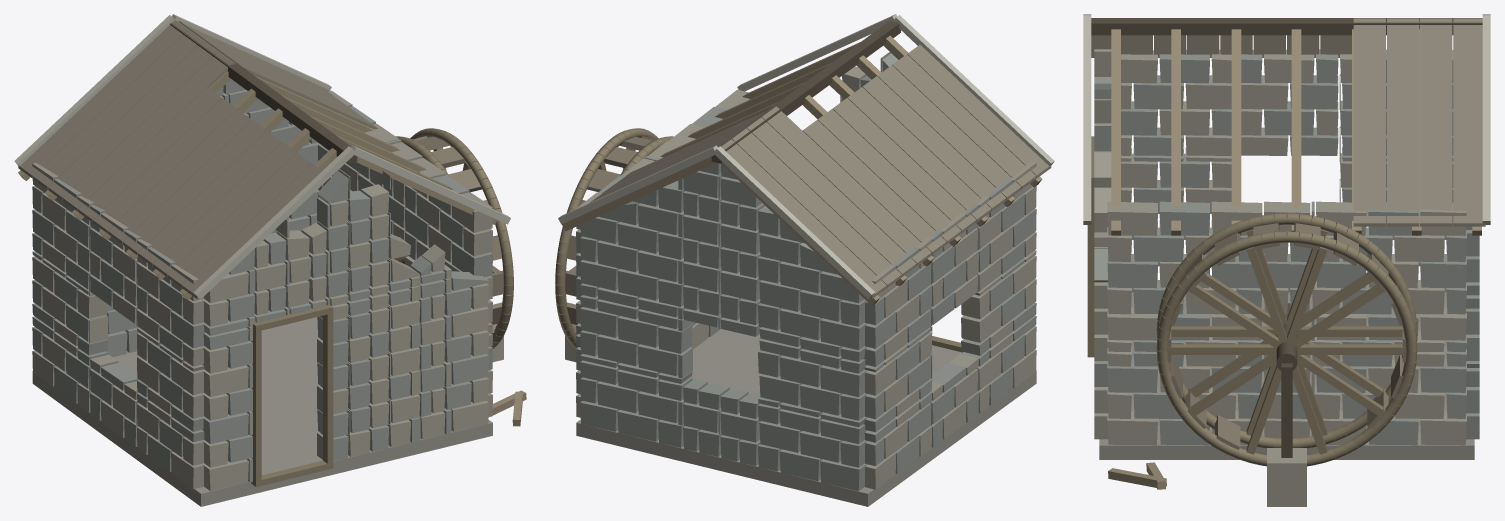
File: 079_stone_watermill_ruin.glb
3 renders of one model, left to right at view 1: azimuth 30°, elevation 25°; view 2: azimuth 150°, elevation 25°; view 3: azimuth 270°, elevation 25°, orthographic. The views are drawn at different scales.
Visible parts, largest first — view 1: BLD-079_exterior_Mill_front, BLD-079_roof_covering, BLD-079_exterior_Mill_side-2.25, BLD-079_foundation, BLD-079_exterior_Mill_side2.25, BLD-079_roof_rafters, BLD-079_roof_edge, BLD-079_frames, BLD-079_exterior_Mill_back, BLD-079_wheel, BLD-079_wheel_buckets, BLD-079_fallen_debris; view 2: BLD-079_exterior_Mill_back, BLD-079_roof_covering, BLD-079_exterior_Mill_side-2.25, BLD-079_foundation, BLD-079_roof_rafters, BLD-079_roof_edge, BLD-079_wheel, BLD-079_exterior_Mill_side2.25, BLD-079_wheel_buckets, BLD-079_exterior_Mill_front; view 3: BLD-079_exterior_Mill_side2.25, BLD-079_wheel, BLD-079_roof_covering, BLD-079_exterior_Mill_side-2.25, BLD-079_roof_rafters, BLD-079_foundation, BLD-079_exterior_Mill_front, BLD-079_wheel_buckets, BLD-079_roof_edge, BLD-079_exterior_Mill_back, BLD-079_frames, Outer_bearing (+2 smaller).
Part boxes in pixels (<box>): BLD-079_exterior_Mill_front: <box>201,169,488,491</box>; BLD-079_roof_covering: <box>18,20,377,298</box>; BLD-079_exterior_Mill_side-2.25: <box>32,163,205,489</box>; BLD-079_foundation: <box>32,317,503,506</box>; BLD-079_exterior_Mill_side2.25: <box>318,90,492,417</box>; BLD-079_roof_rafters: <box>18,21,497,299</box>; BLD-079_roof_edge: <box>14,14,510,299</box>; BLD-079_frames: <box>251,305,333,486</box>; BLD-079_exterior_Mill_back: <box>106,79,319,356</box>; BLD-079_wheel: <box>396,128,513,348</box>; BLD-079_wheel_buckets: <box>413,136,503,334</box>; BLD-079_fallen_debris: <box>489,390,526,426</box>; BLD-079_exterior_Mill_back: <box>580,163,867,491</box>; BLD-079_roof_covering: <box>589,45,1051,298</box>; BLD-079_exterior_Mill_side-2.25: <box>863,161,1036,489</box>; BLD-079_foundation: <box>565,329,1036,506</box>; BLD-079_roof_rafters: <box>562,21,1042,305</box>; BLD-079_roof_edge: <box>558,14,1054,299</box>; BLD-079_wheel: <box>555,128,673,348</box>; BLD-079_exterior_Mill_side2.25: <box>576,89,749,417</box>; BLD-079_wheel_buckets: <box>565,136,655,335</box>; BLD-079_exterior_Mill_front: <box>840,52,898,102</box>; BLD-079_exterior_Mill_side2.25: <box>1107,201,1466,445</box>; BLD-079_wheel: <box>1156,213,1417,466</box>; BLD-079_roof_covering: <box>1091,18,1485,226</box>; BLD-079_exterior_Mill_side-2.25: <box>1121,49,1453,292</box>; BLD-079_roof_rafters: <box>1091,18,1482,235</box>; BLD-079_foundation: <box>1099,288,1474,506</box>; BLD-079_exterior_Mill_front: <box>1094,49,1111,439</box>; BLD-079_wheel_buckets: <box>1167,223,1406,449</box>; BLD-079_roof_edge: <box>1083,14,1490,224</box>; BLD-079_exterior_Mill_back: <box>1465,226,1479,439</box>; BLD-079_frames: <box>1087,136,1094,357</box>; Outer_bearing: <box>1281,363,1292,457</box>.
Bounding box in the file's own units: 6.25 × 5.05 × 5.08.
